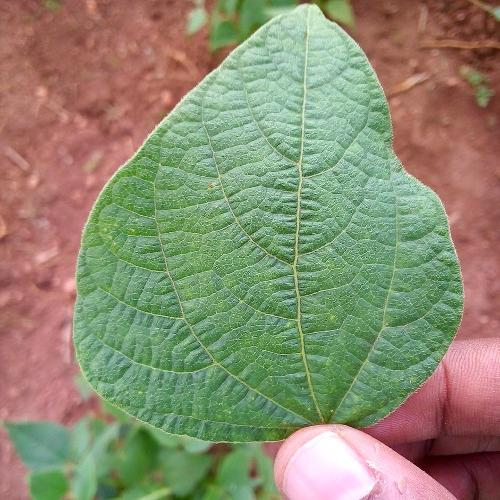mozaik: (163, 94, 358, 418)
